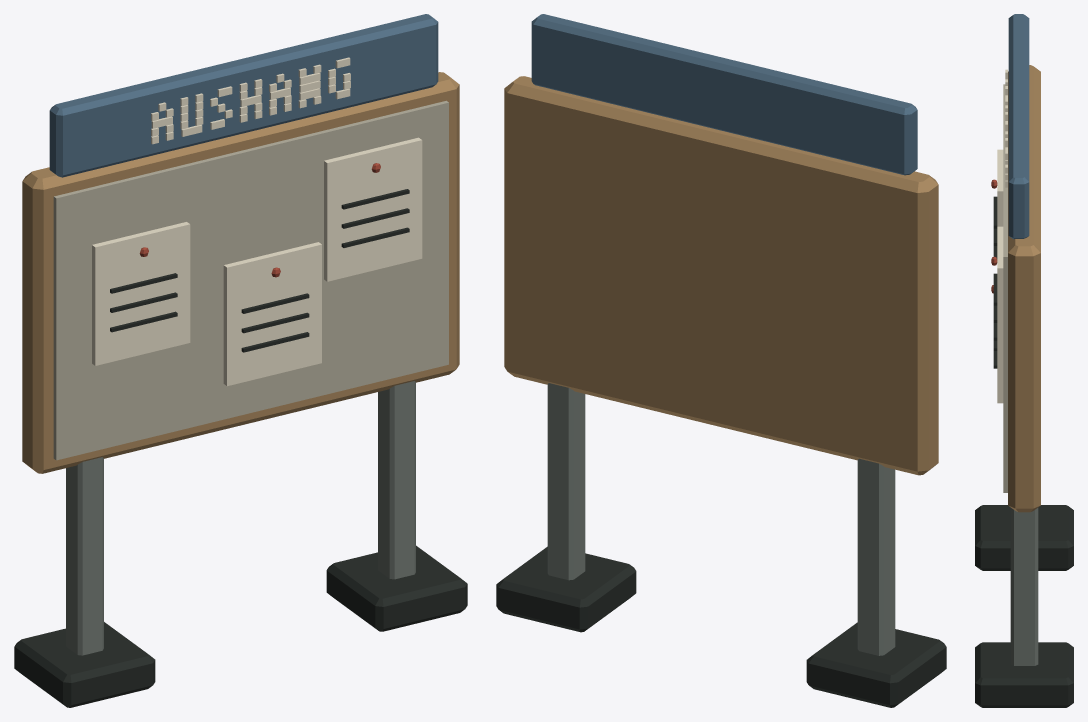
Rendered from notice-board.glb.
3 renders of one model, left to right at view 1: azimuth 30°, elevation 25°; view 2: azimuth 150°, elevation 25°; view 3: azimuth 270°, elevation 25°, orthographic. The views are drawn at different scales.
Visible parts, largest first — view 1: notice-board; view 2: notice-board; view 3: notice-board.
Boxes of the visible parts, <box> form: notice-board: <box>14,14,467,707</box>; notice-board: <box>496,14,946,707</box>; notice-board: <box>975,14,1073,707</box>.
Size of the model in its own units: 1.62 by 2.12 by 0.36.
